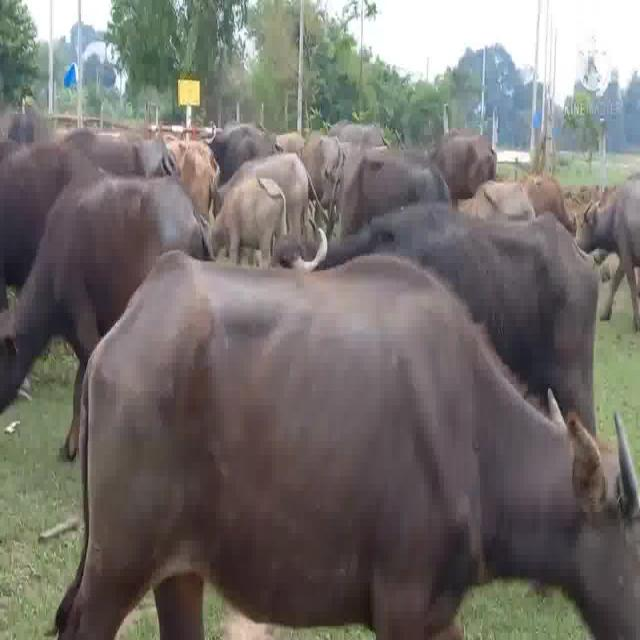buffalo: (15, 246, 621, 640), (12, 157, 196, 294), (358, 124, 508, 236), (216, 134, 346, 260), (575, 167, 638, 327)
